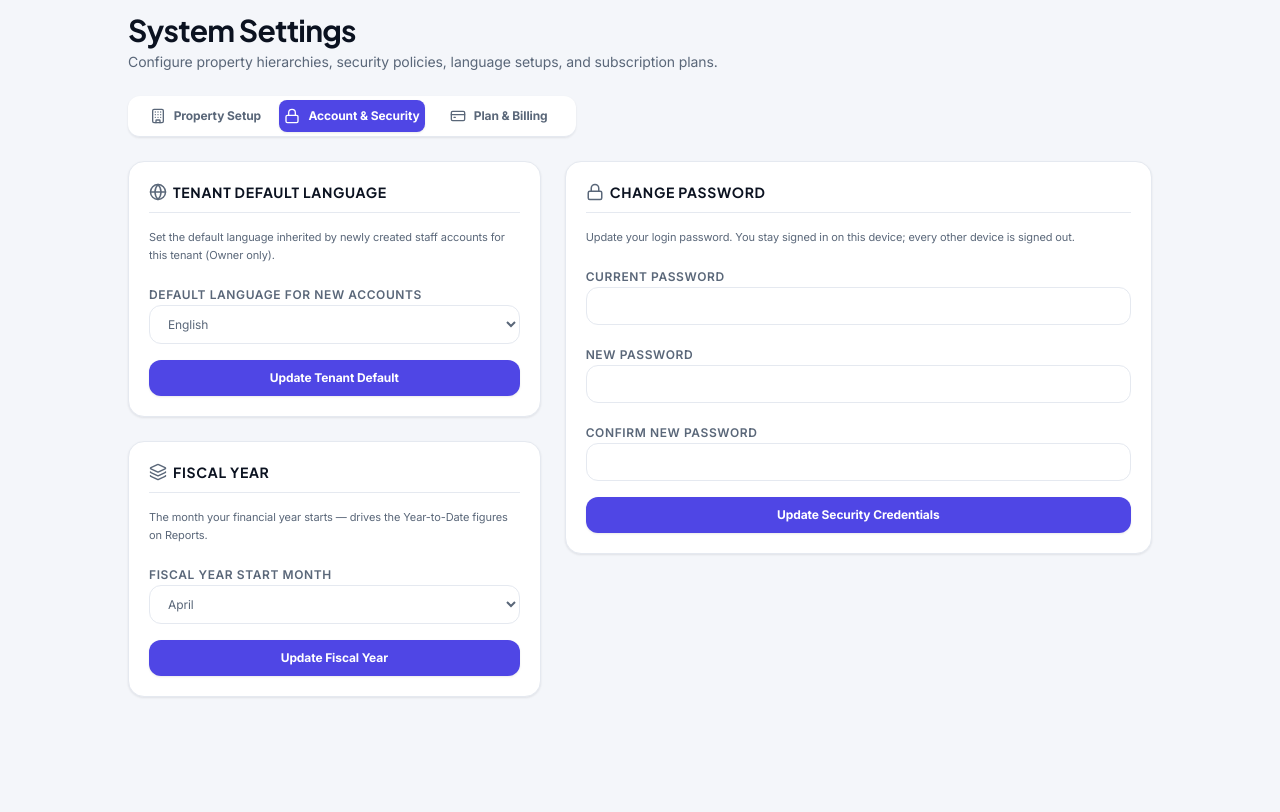
Settings → change password › validates on the client first (8-character minimum, matching confirmation)
Type "Vintage-Kite-77" into the password field labelled "Current Password" at point(858, 306), box [586,287,1131,325]
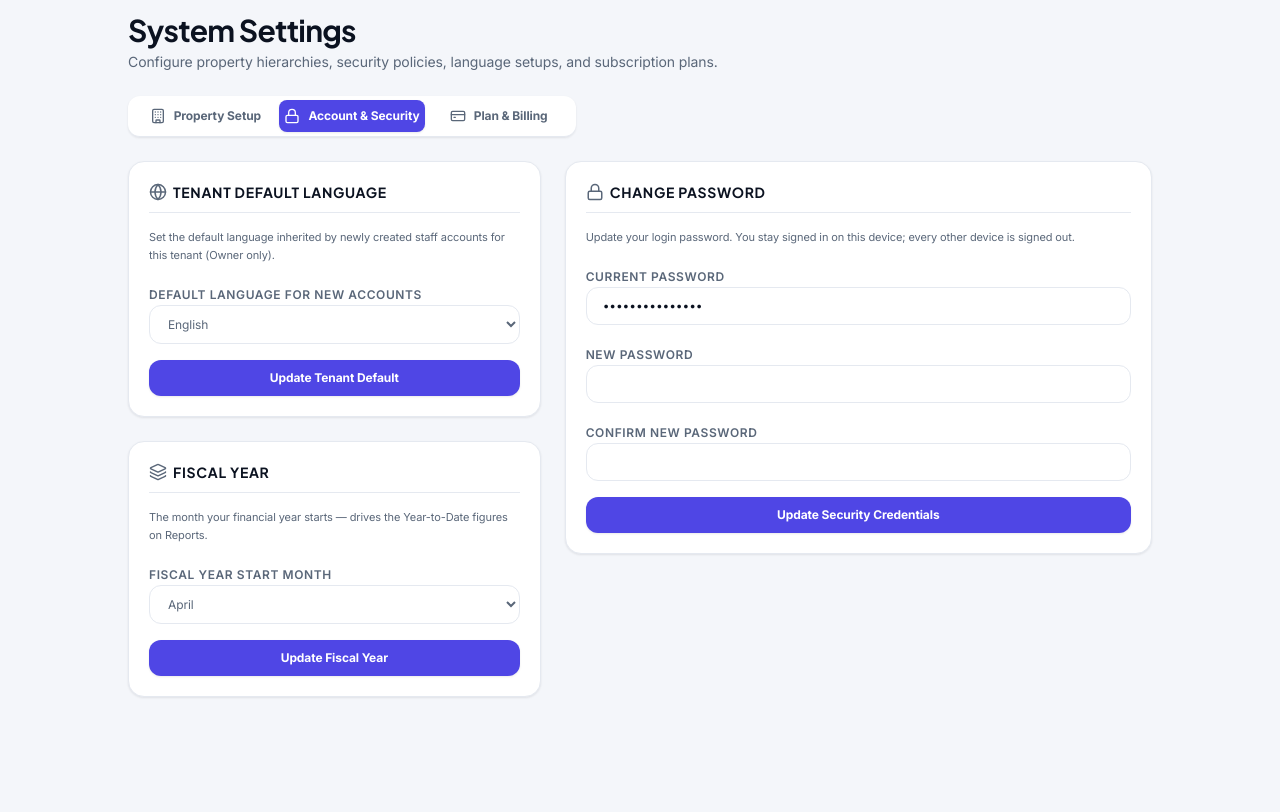
Type "short" into the password field labelled "New Password" at point(858, 384), box [586,365,1131,403]
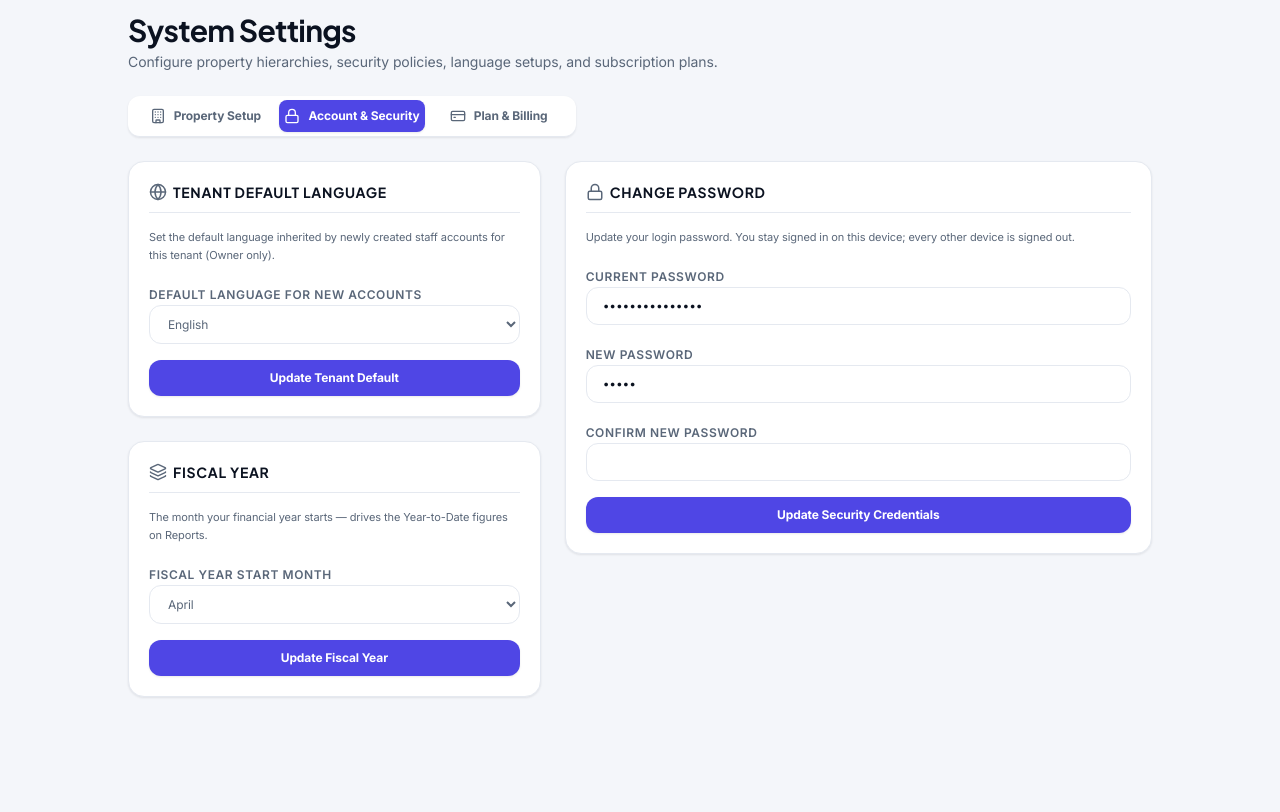
Type "different" into the password field labelled "Confirm New Password" at point(858, 462), box [586,443,1131,481]
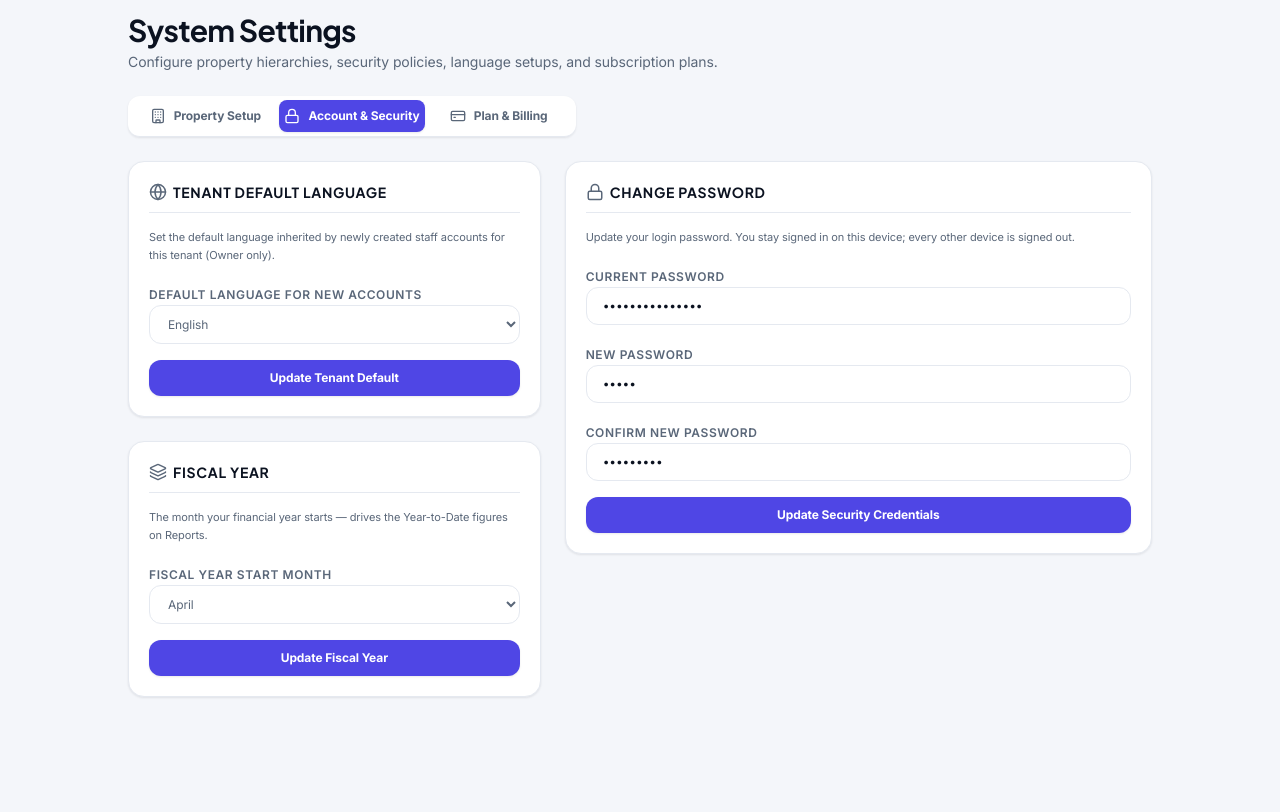
Click the button "Update Security Credentials" at point(858, 515), box [586,497,1131,533]
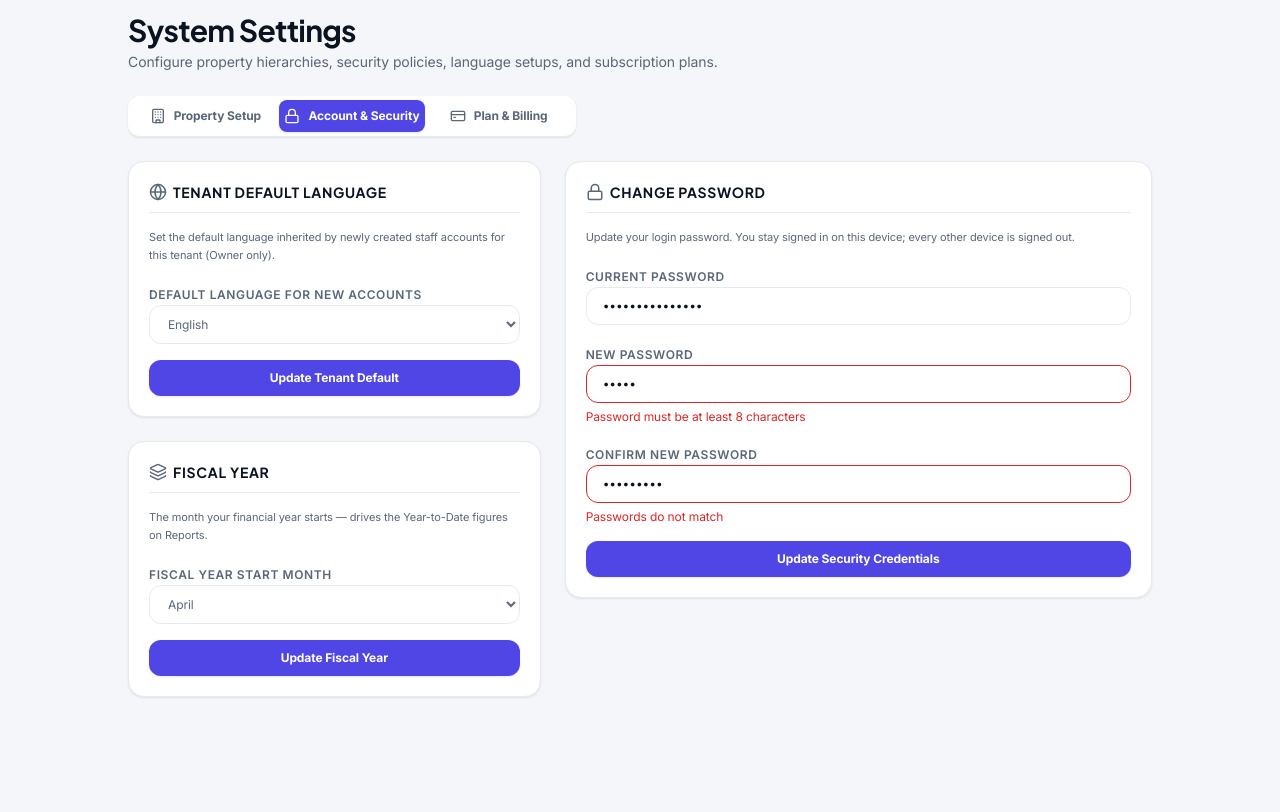
Now the text "Password must be at least 8 characters" is shown, box [586,409,806,424]
Now the text "Passwords do not match" is shown, box [586,509,723,524]
